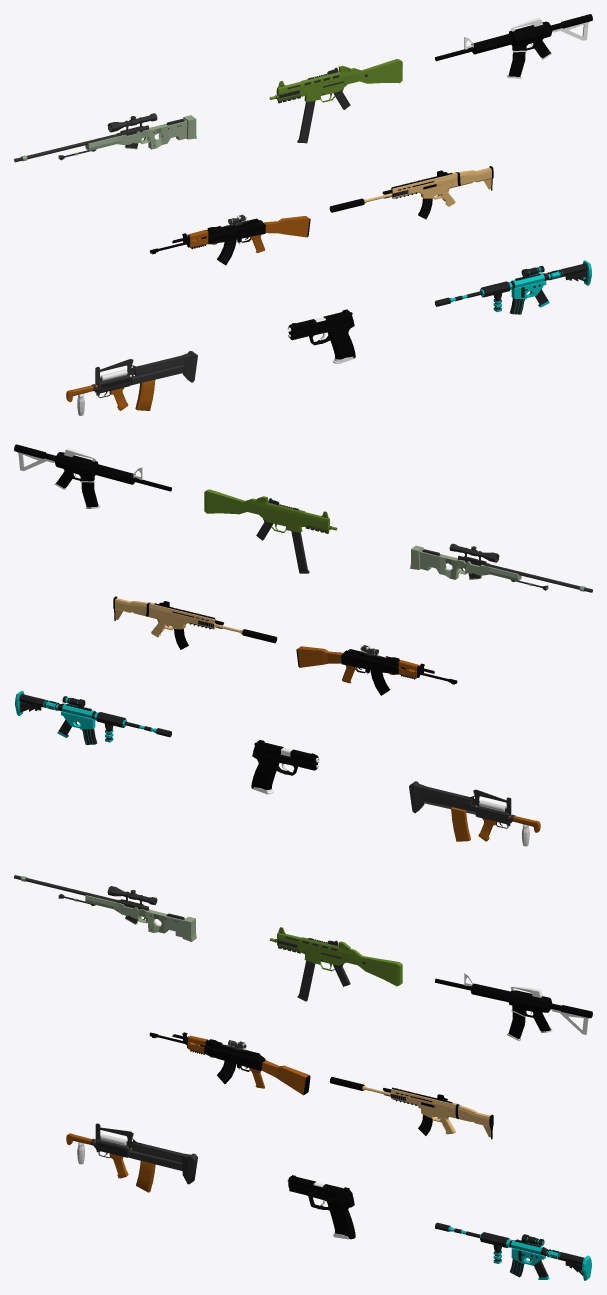
File: assault_rifle.glb
The picture shows the model from 3 angles, top to bottom: view 1: azimuth 30°, elevation 25°; view 2: azimuth 150°, elevation 25°; view 3: azimuth 330°, elevation 25°; orthographic projection.
Visible parts, largest first — view 1: UMP9_7, Cube.008_0, AWM_2, Plane.010_3, AWM.001_6, M416_8, Cube.030_5, Frame_4; view 2: UMP9_7, Cube.008_0, AWM_2, Plane.010_3, AWM.001_6, M416_8, Cube.030_5, Frame_4; view 3: UMP9_7, Cube.008_0, AWM_2, Plane.010_3, AWM.001_6, M416_8, Cube.030_5, Frame_4.
Part boxes in pixels (x1,y1,x2,y2): UMP9_7: (269,59,402,143); Cube.008_0: (66,351,197,410); AWM_2: (149,214,310,265); Plane.010_3: (435,14,592,78); AWM.001_6: (14,113,196,162); M416_8: (435,260,591,314); Cube.030_5: (329,166,493,219); Frame_4: (287,309,355,363); UMP9_7: (204,489,337,573); Cube.008_0: (409,781,540,841); AWM_2: (296,645,457,695); Plane.010_3: (14,444,171,508); AWM.001_6: (410,543,592,592); M416_8: (15,691,171,744); Cube.030_5: (113,596,277,649); Frame_4: (251,740,319,794); UMP9_7: (269,927,402,1001); Cube.008_0: (66,1123,197,1192); AWM_2: (149,1032,310,1095); Plane.010_3: (435,973,592,1040); AWM.001_6: (14,875,196,941); M416_8: (435,1222,591,1280); Cube.030_5: (329,1077,493,1139); Frame_4: (287,1175,355,1239).
Size of the model in its own units: 14.72 by 7.26 by 0.3502.
